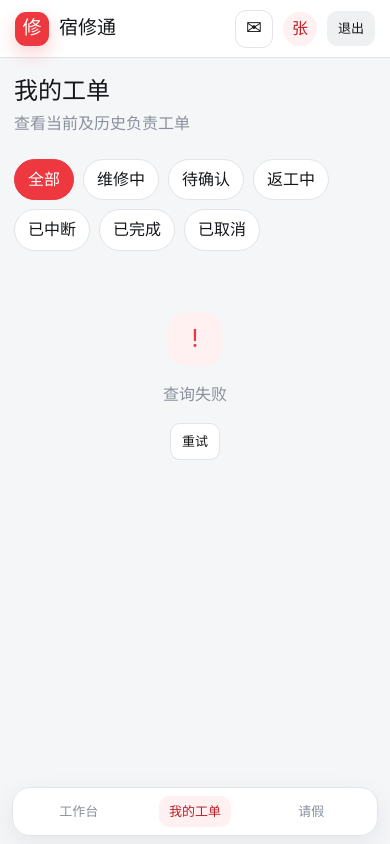
Test: 维修人员我的工单 › 加载失败展示错误并可重试
Click the button with class "small" showing "重试": point(195, 442) [170,423,220,460]
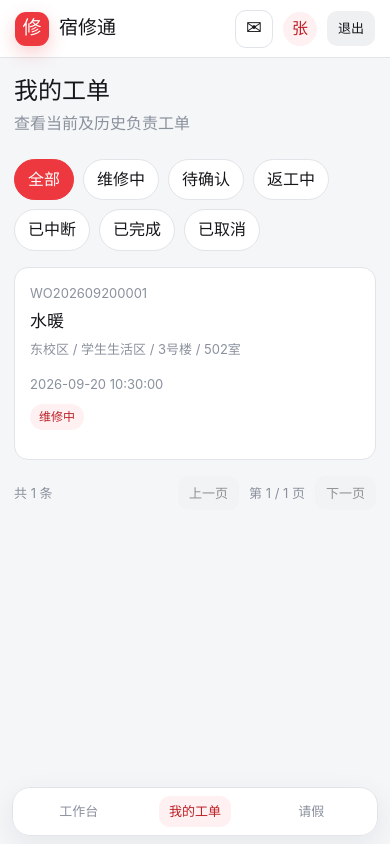
Now the text "WO202609200001" is shown, box [30,285,147,301]
